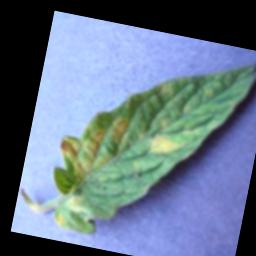Leaf_Mold: (53, 102, 133, 188), (145, 130, 186, 160), (62, 192, 85, 214)
